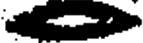Mouth: (4, 3, 141, 43)
